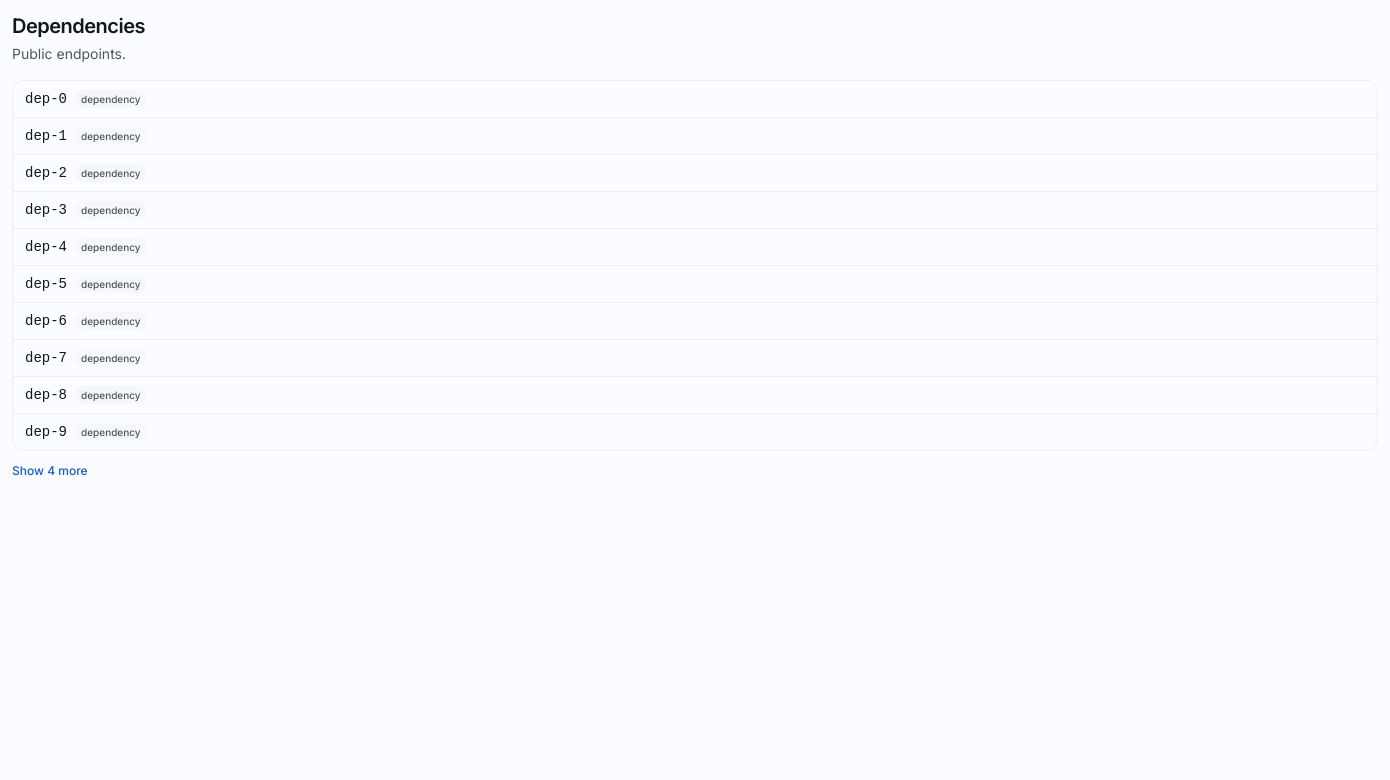
Test case: ShowcaseSectionBlock › paginates a long derived-item list to 10
This screenshot has width=1390, height=780.
Expected: the text "dep-0" is shown, [25,89,67,109]
Expected: the text "dep-13" is not shown
Click the button "Show 4 more".
click(50, 471)  # box [12,463,88,479]
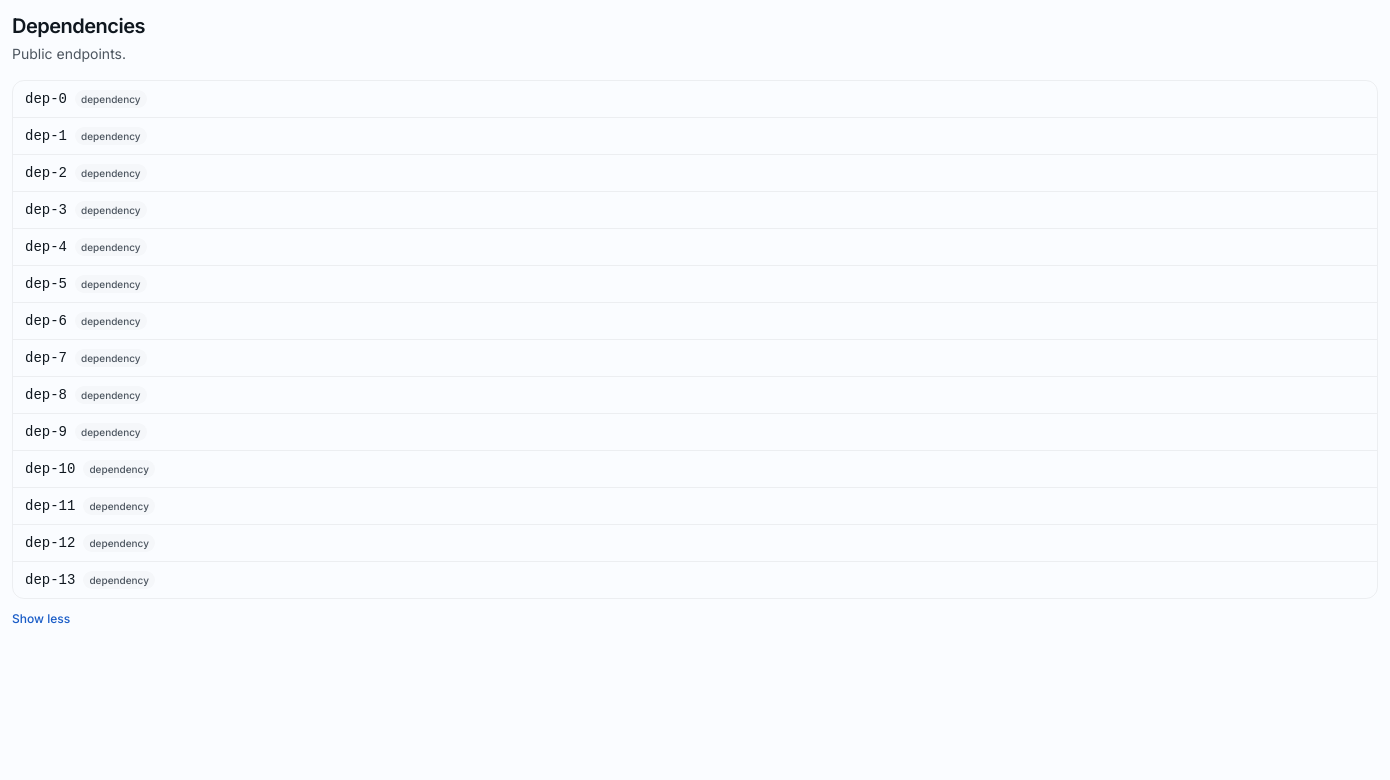
Now the text "dep-13" is shown, box [25,570,75,590]
